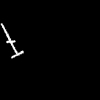double_crochet: (1, 24, 22, 57)
